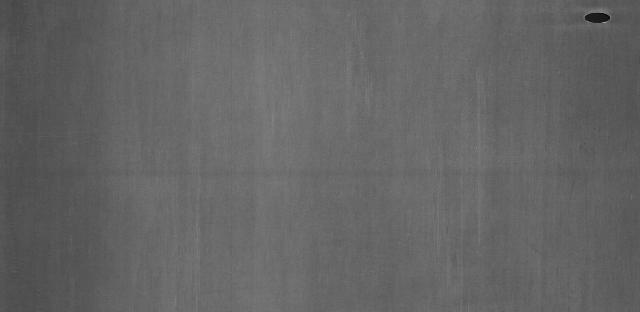punching_hole: (581, 10, 613, 27)
